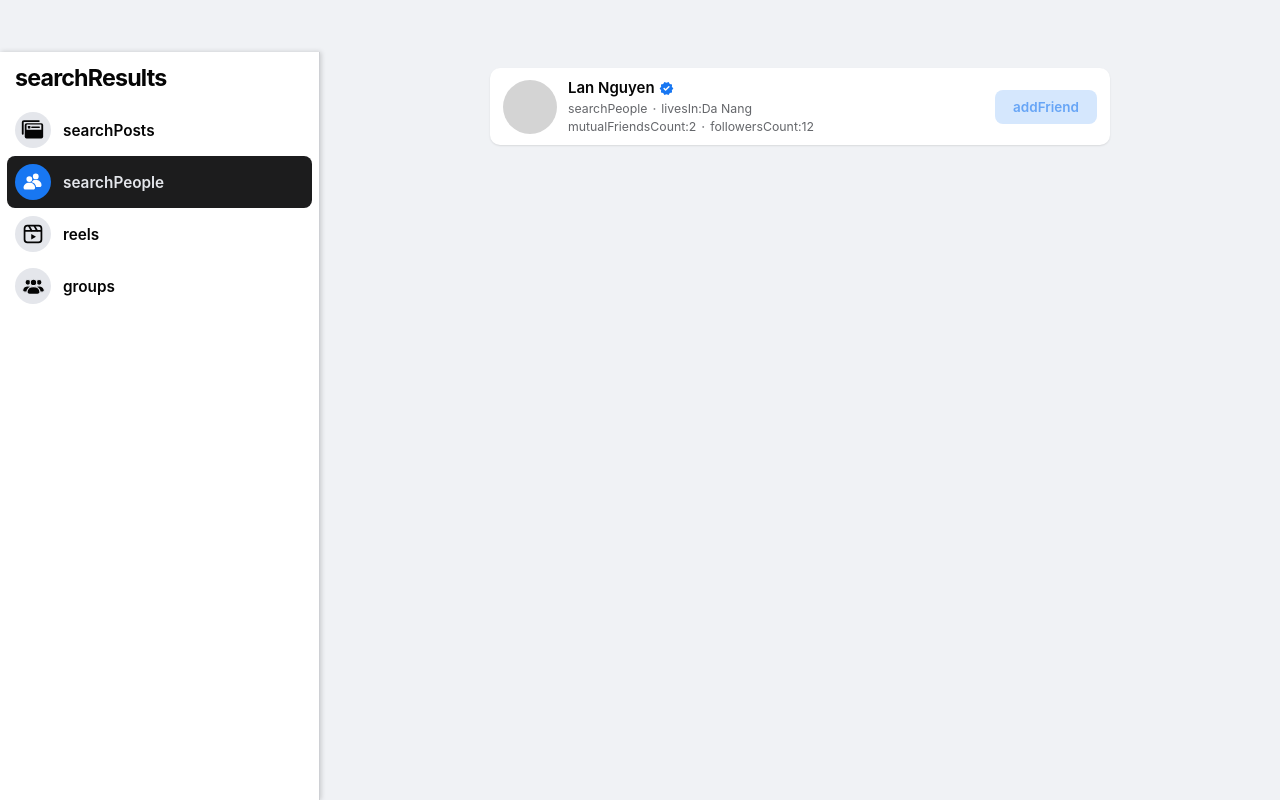
SearchPage results redesign › uses the Friend/Group sidebar structure and renders hydrated people actions
Expected: the text "Lan Nguyen" is shown, x1=568 y1=79 x2=655 y2=98
Expected: the header reads "searchResults", x1=15 y1=63 x2=166 y2=92
What coordinates should you click on to do the following:
click the button "addFriend"
I would click on:
 (1046, 107)
Its box is x1=995 y1=90 x2=1097 y2=124.
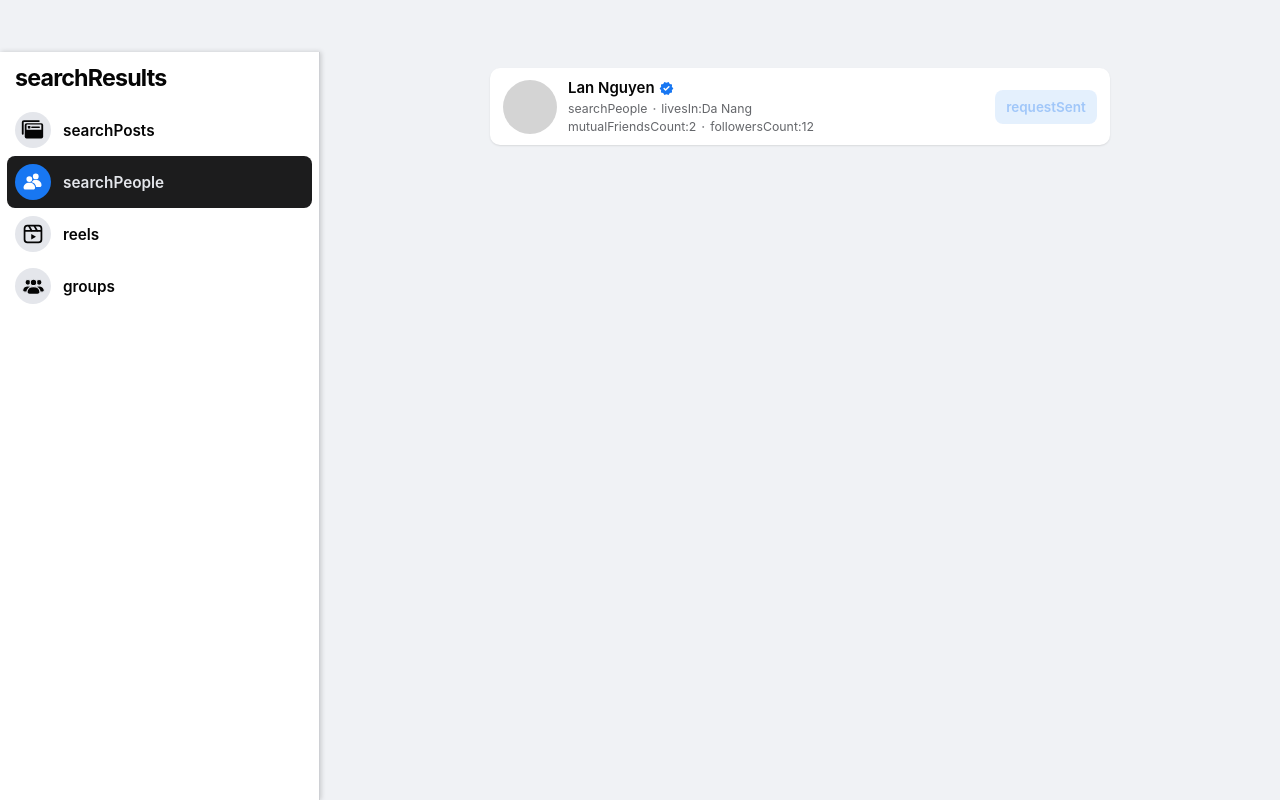
Result: the button "requestSent" is disabled at x1=995 y1=90 x2=1097 y2=124
